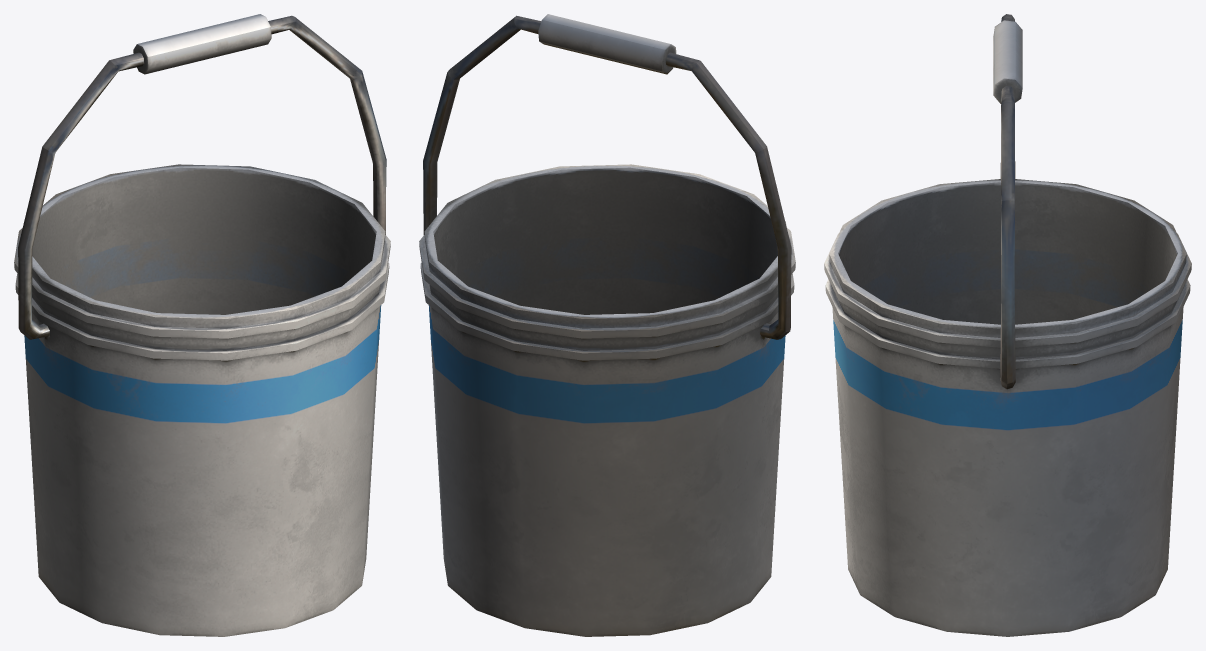
File: tool_Bucket.fbx
3 renders of one model, left to right at view 1: azimuth 30°, elevation 25°; view 2: azimuth 150°, elevation 25°; view 3: azimuth 270°, elevation 25°, orthographic. The views are drawn at different scales.
Visible parts, largest first — view 1: Bucket, Handle; view 2: Bucket, Handle; view 3: Bucket, Handle.
Part boxes in pixels (box(x1,y1,x2,y2)): Bucket: box(14, 164, 390, 636); Handle: box(18, 14, 386, 339); Bucket: box(419, 164, 795, 636); Handle: box(423, 14, 791, 339); Bucket: box(824, 179, 1191, 636); Handle: box(993, 14, 1022, 389).
Bounding box in the file's own units: 31.2 × 43.71 × 28.02.
